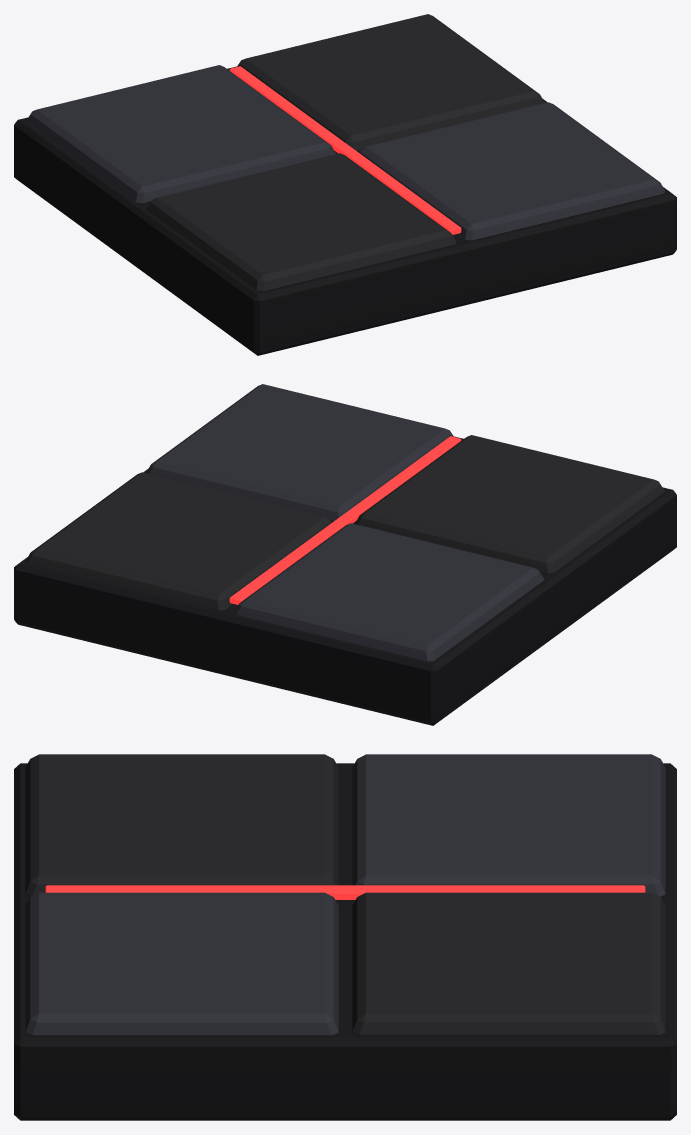
File: obsidian.glb
The picture shows the model from 3 angles, top to bottom: view 1: azimuth 30°, elevation 25°; view 2: azimuth 150°, elevation 25°; view 3: azimuth 270°, elevation 25°; orthographic projection. The views are drawn at different scales.
Parts seen in each view (by area): view 1: obsidian; view 2: obsidian; view 3: obsidian.
Boxes of the visible parts, x1=… form: obsidian: x1=14, y1=14, x2=676, y2=355; obsidian: x1=14, y1=384, x2=676, y2=725; obsidian: x1=14, y1=754, x2=676, y2=1120.
Size of the model in its own units: 1.46 by 0.241 by 1.46.
